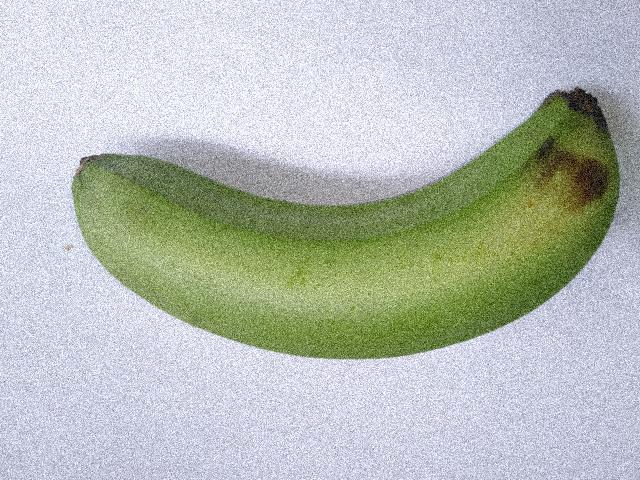freshunripe: (59, 68, 615, 375)
